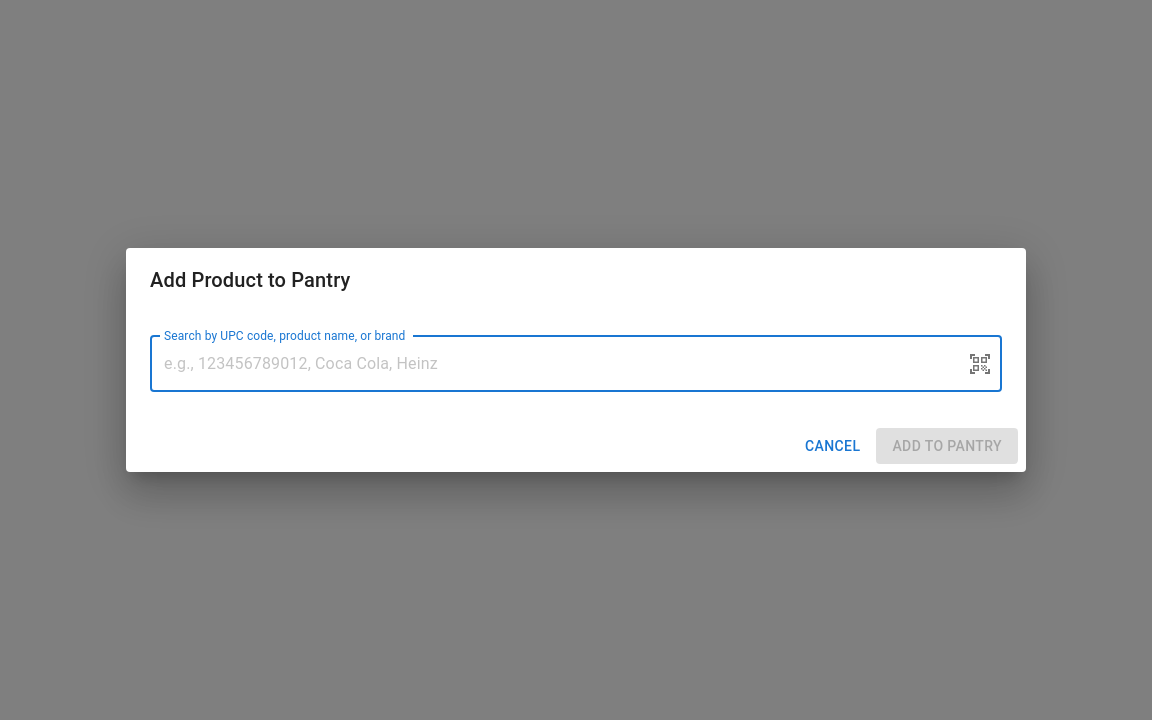
Test case: ProductSearchModal › allows user to select a product
The image size is (1152, 720).
Type "test" into the field labelled "Search by UPC code, product name, or brand" at (551, 364), box [150,336,952,392]
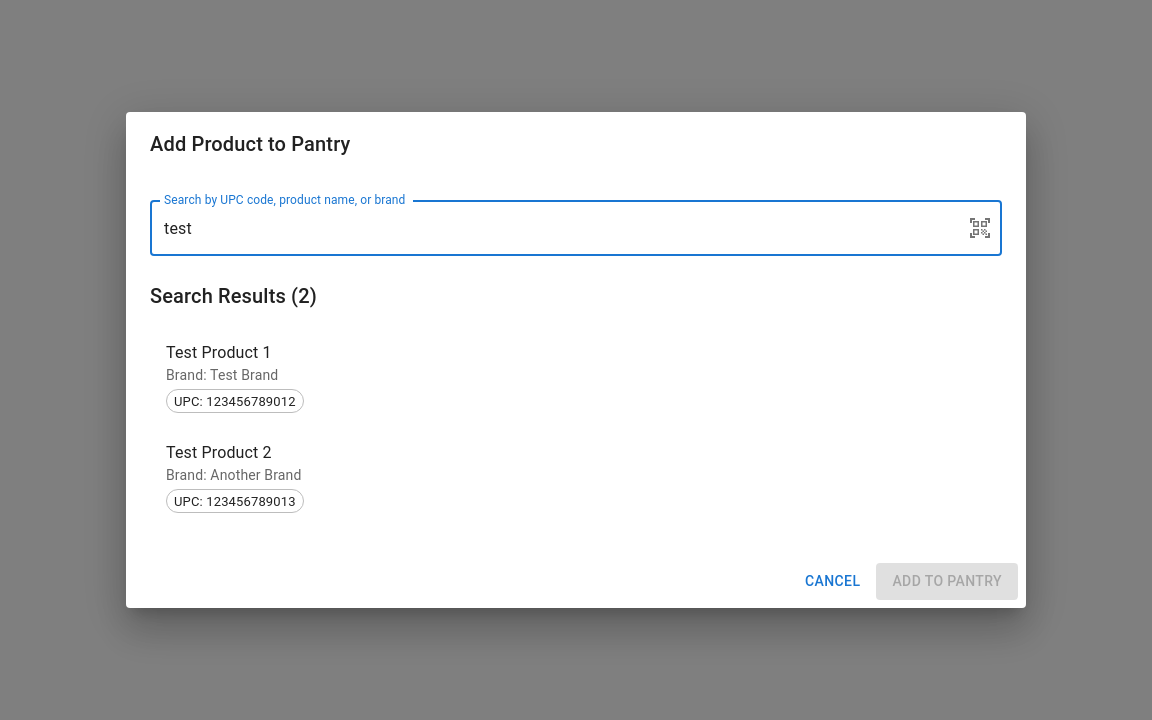
Check: the text "Test Product 1" is shown, box [166,343,272,362]
Click the button with test id "product-result-123456789012" at (235, 378), box [166,343,304,413]
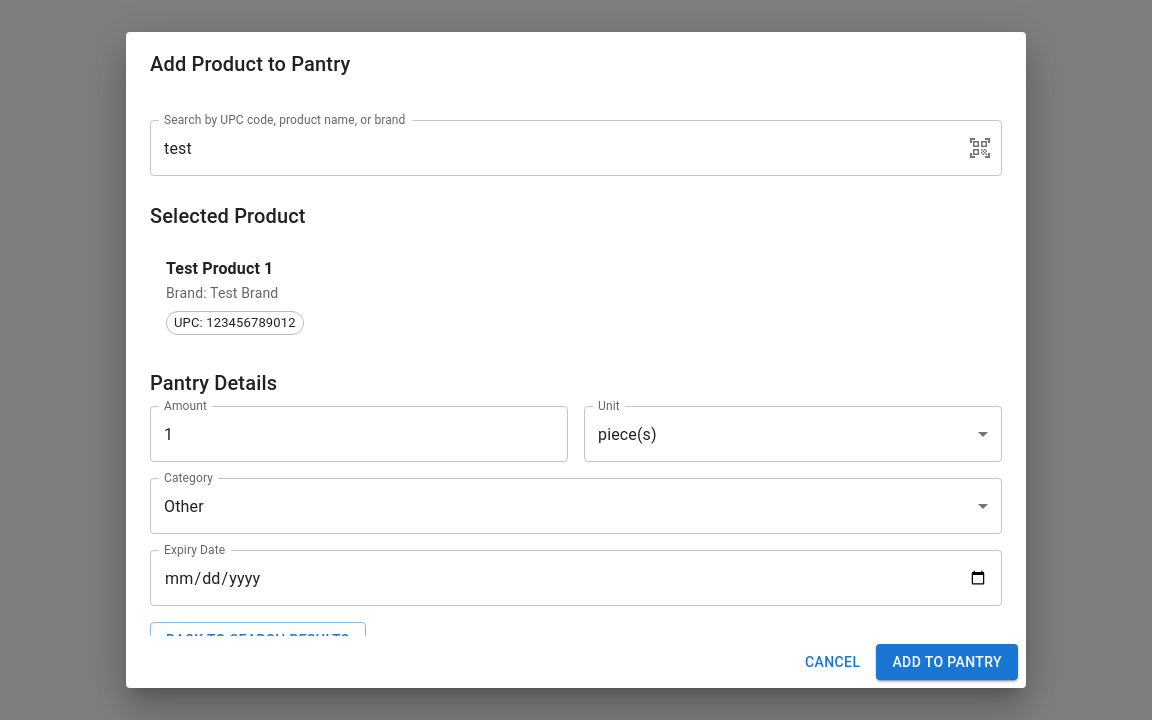
Check: the heading "Test Product 1" is shown, box [166,259,273,278]
Check: the heading "Selected Product" is shown, box [150,204,306,228]
Check: the heading "Pantry Details" is shown, box [150,371,277,395]
